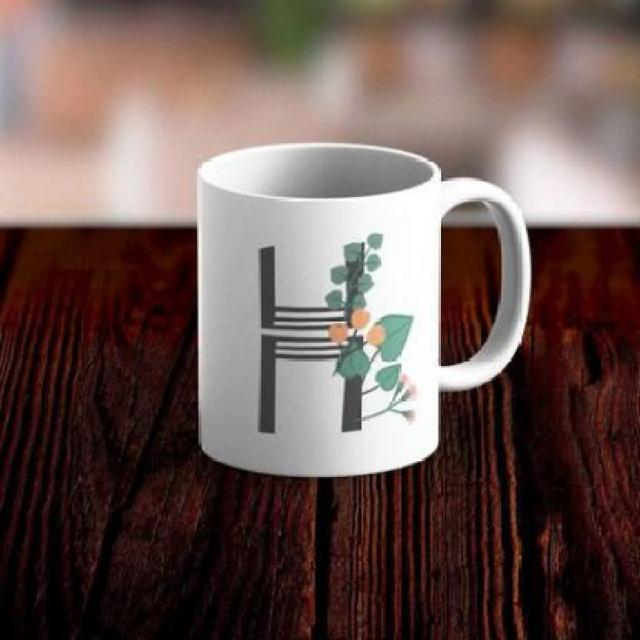taza: (178, 126, 542, 483)
